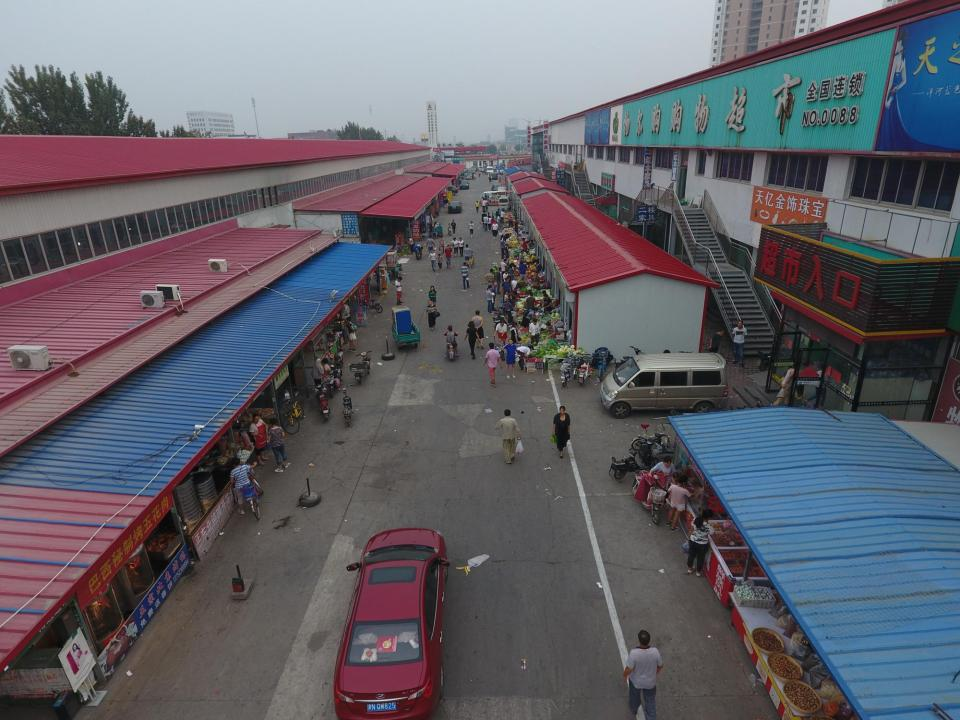car: (334, 527, 449, 720), (438, 185, 458, 196), (448, 201, 463, 213)
van: (599, 351, 732, 417), (479, 190, 513, 206), (497, 196, 512, 205)
